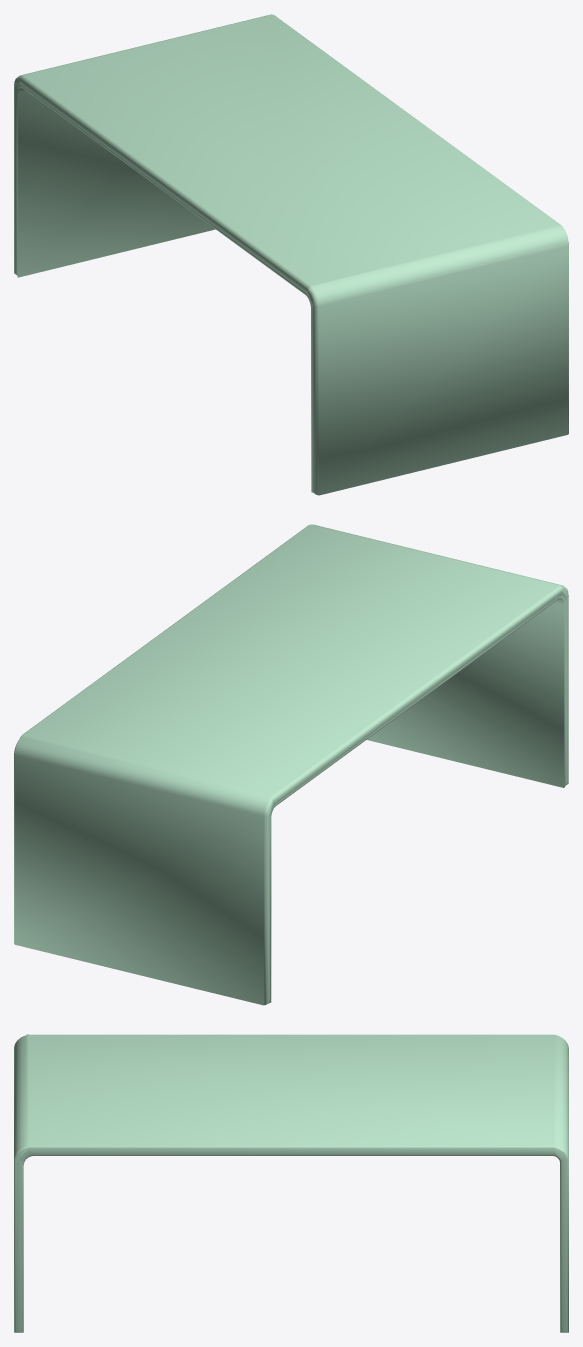
The model's file is ND-0700__Cheval_mesa1.glb.
3 renders of one model, top to bottom at view 1: azimuth 30°, elevation 25°; view 2: azimuth 150°, elevation 25°; view 3: azimuth 270°, elevation 25°, orthographic. The views are drawn at different scales.
Visible parts, largest first — view 1: Cube; view 2: Cube; view 3: Cube.
Boxes of the visible parts, x1,y1,x2,y2 form: Cube: (14,14,568,495); Cube: (14,524,568,1005); Cube: (14,1034,568,1332).
Bounding box in the file's own units: 2.9 × 2.22 × 5.98.
